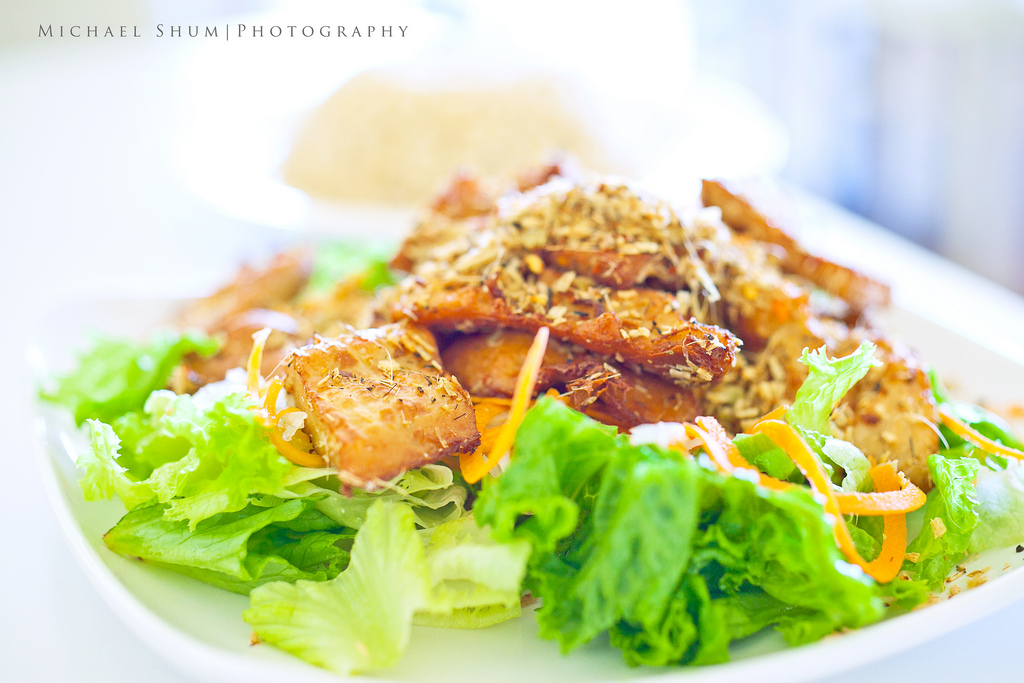chopped lettuce: (502, 408, 868, 663), (102, 374, 334, 612), (258, 473, 542, 662)
